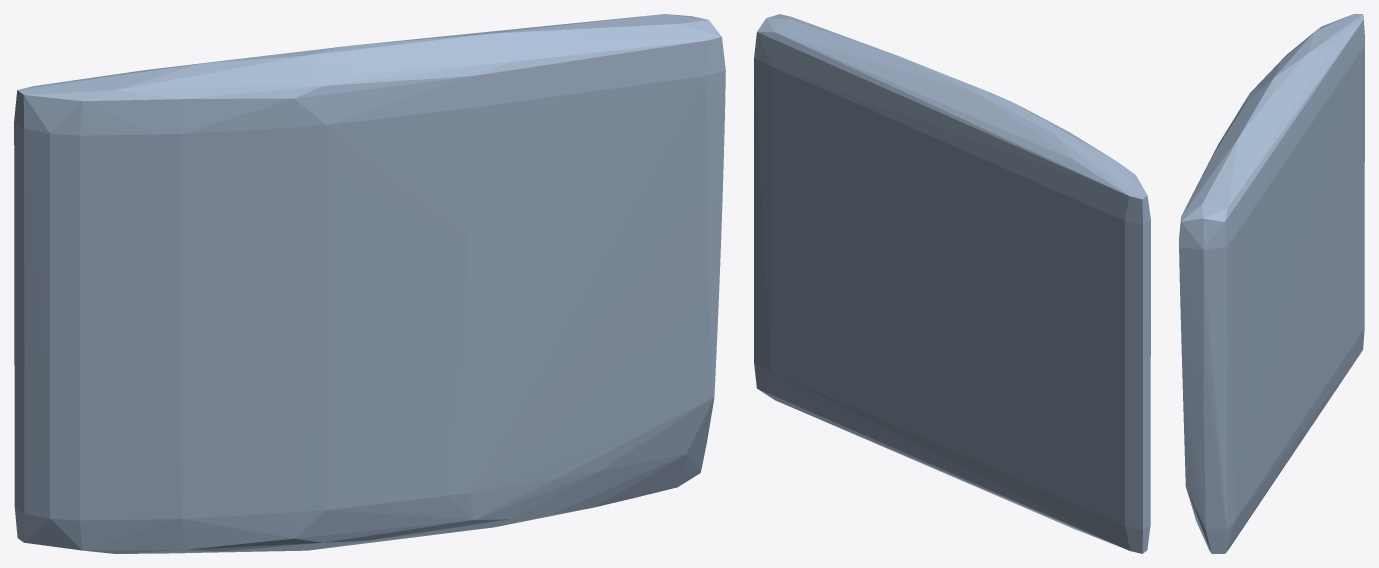
The model's file is right-hip-yaw-0_part_6.obj.
The picture shows the model from 3 angles, left to right: view 1: azimuth 30°, elevation 25°; view 2: azimuth 150°, elevation 25°; view 3: azimuth 270°, elevation 25°; orthographic projection. The views are drawn at different scales.
Bounding box in the file's own units: 0.0271 × 0.0217 × 0.00998.
